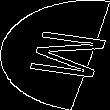M_E: (6, 26, 104, 84)
